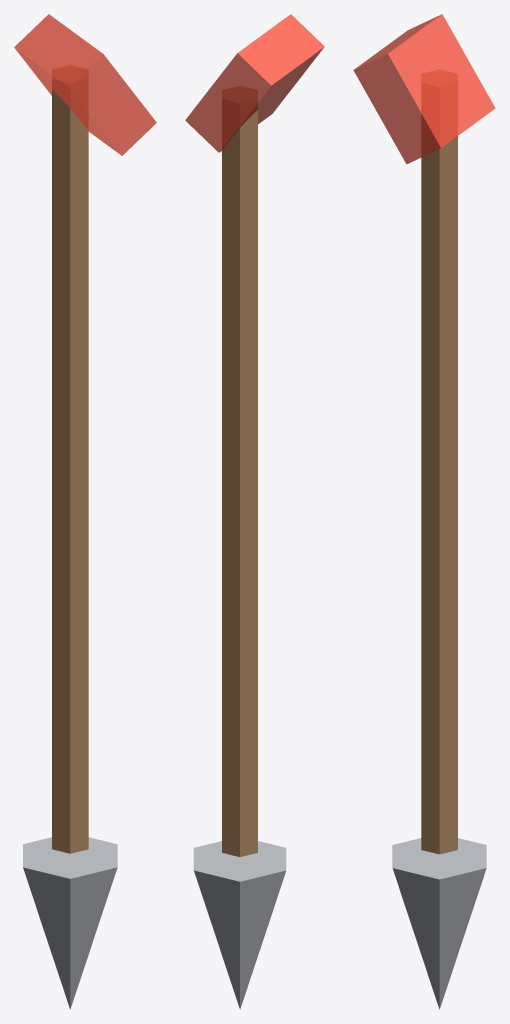
File: arrow_projectile.glb
The picture shows the model from 3 angles, left to right: view 1: azimuth 30°, elevation 25°; view 2: azimuth 150°, elevation 25°; view 3: azimuth 330°, elevation 25°; orthographic projection. The views are drawn at different scales.
Parts seen in each view (by area): view 1: shaft, tip, fletching_a; view 2: shaft, tip, fletching_a; view 3: shaft, fletching_a, tip.
Boxes of the visible parts, left/top/right/bottom form: shaft: left=52, top=65, right=88, bottom=853; tip: left=23, top=837, right=117, bottom=1009; fletching_a: left=14, top=14, right=156, bottom=155; shaft: left=222, top=86, right=257, bottom=856; tip: left=193, top=841, right=286, bottom=1009; fletching_a: left=185, top=14, right=324, bottom=152; shaft: left=421, top=70, right=457, bottom=854; fletching_a: left=353, top=14, right=495, bottom=164; tip: left=392, top=838, right=486, bottom=1009.
Size of the model in its own units: 0.18 by 1.8 by 0.2179.
